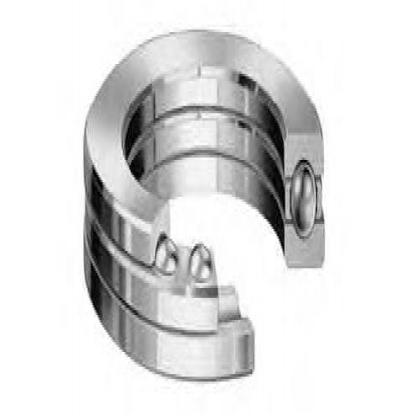FOD: (75, 8, 326, 388)
